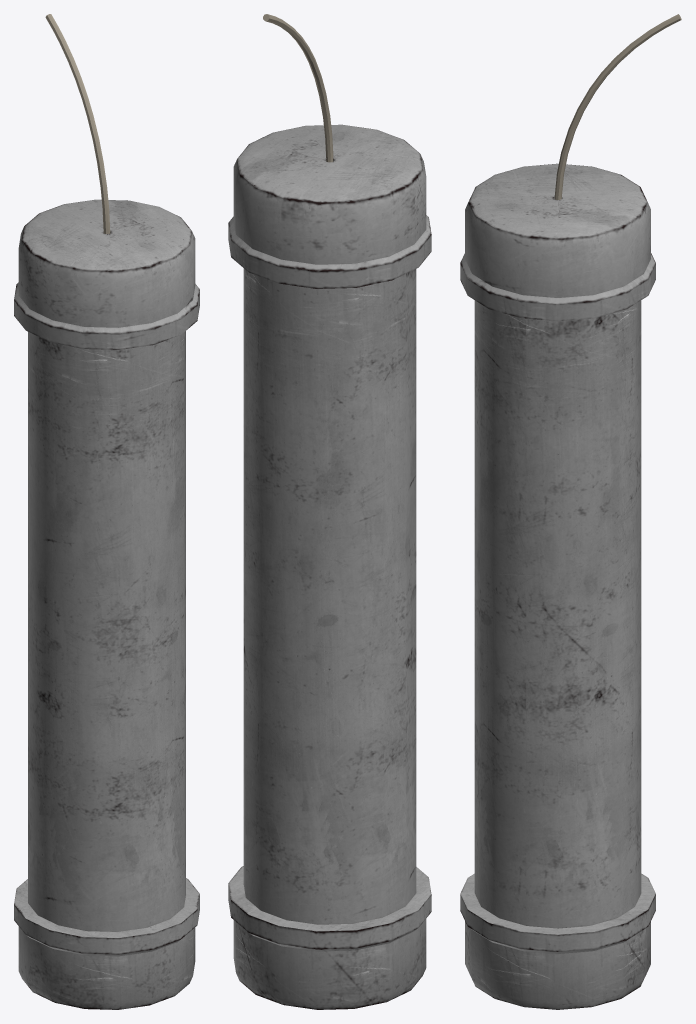
File: pipe_bomb.glb
3 views of the same model, side by side, from view 1: azimuth 30°, elevation 25°; view 2: azimuth 150°, elevation 25°; view 3: azimuth 270°, elevation 25° (orthographic). The views are drawn at different scales.
Visible parts, largest first — view 1: Pipe_Bomb; view 2: Pipe_Bomb; view 3: Pipe_Bomb.
Part boxes in pixels (<box>): Pipe_Bomb: <box>14,14,199,1009</box>; Pipe_Bomb: <box>228,14,431,1009</box>; Pipe_Bomb: <box>460,14,681,1009</box>.
Size of the model in its own units: 0.047 by 0.2548 by 0.0532.
Materials: 1 (1 with a texture image).
